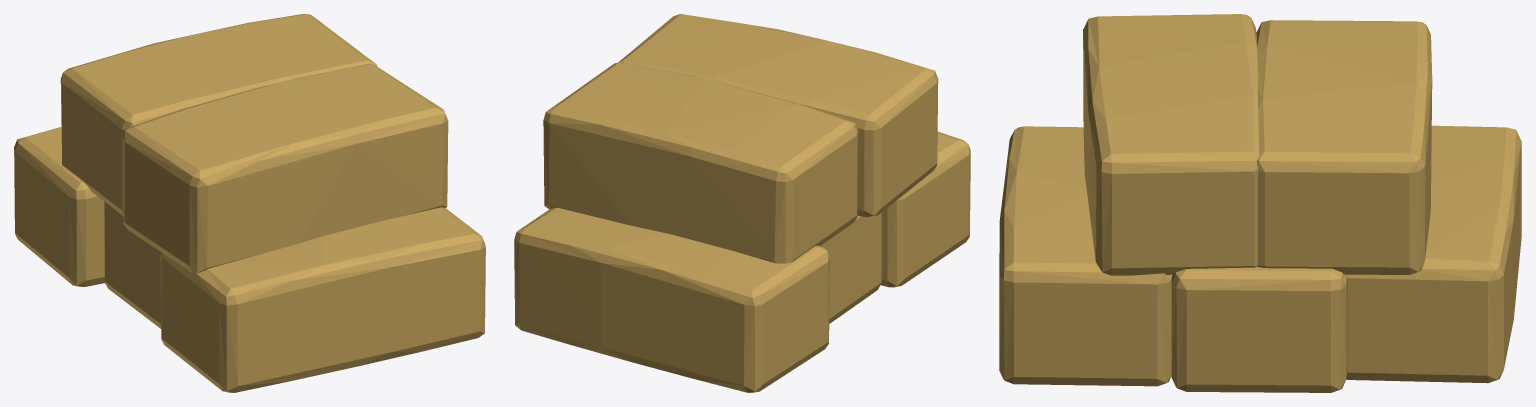
File: hay_bale_stack.glb
3 views of the same model, side by side, from view 1: azimuth 30°, elevation 25°; view 2: azimuth 150°, elevation 25°; view 3: azimuth 270°, elevation 25° (orthographic). The views are drawn at different scales.
Visible parts, largest first — view 1: hay_bale_stack_lod0; view 2: hay_bale_stack_lod0; view 3: hay_bale_stack_lod0.
Boxes of the visible parts, x1,y1,x2,y2 form: hay_bale_stack_lod0: (14,14,485,392); hay_bale_stack_lod0: (514,14,970,392); hay_bale_stack_lod0: (999,14,1521,392).
Size of what is drawn, in the model's own units: 1.05 by 0.728 by 1.45.
